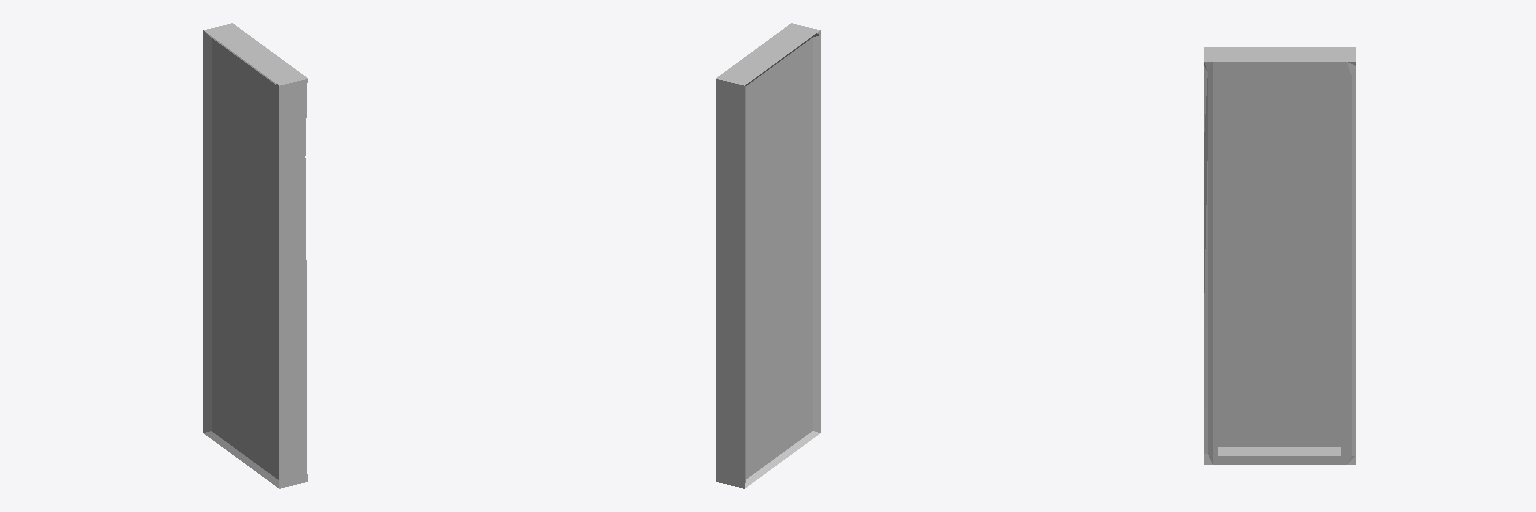
The model's file is ShortWall.obj.
The picture shows the model from 3 angles: view 1: azimuth 30°, elevation 25°; view 2: azimuth 150°, elevation 25°; view 3: azimuth 270°, elevation 25°; orthographic projection.
Parts seen in each view (by area): view 1: ShortWallSegment; view 2: ShortWallSegment; view 3: ShortWallSegment.
Part boxes in pixels (left/top/right/bottom): ShortWallSegment: left=203, top=23, right=307, bottom=488; ShortWallSegment: left=716, top=23, right=820, bottom=488; ShortWallSegment: left=1204, top=47, right=1355, bottom=464.
Size of the model in its own units: 0.2323 by 3.06 by 1.04.